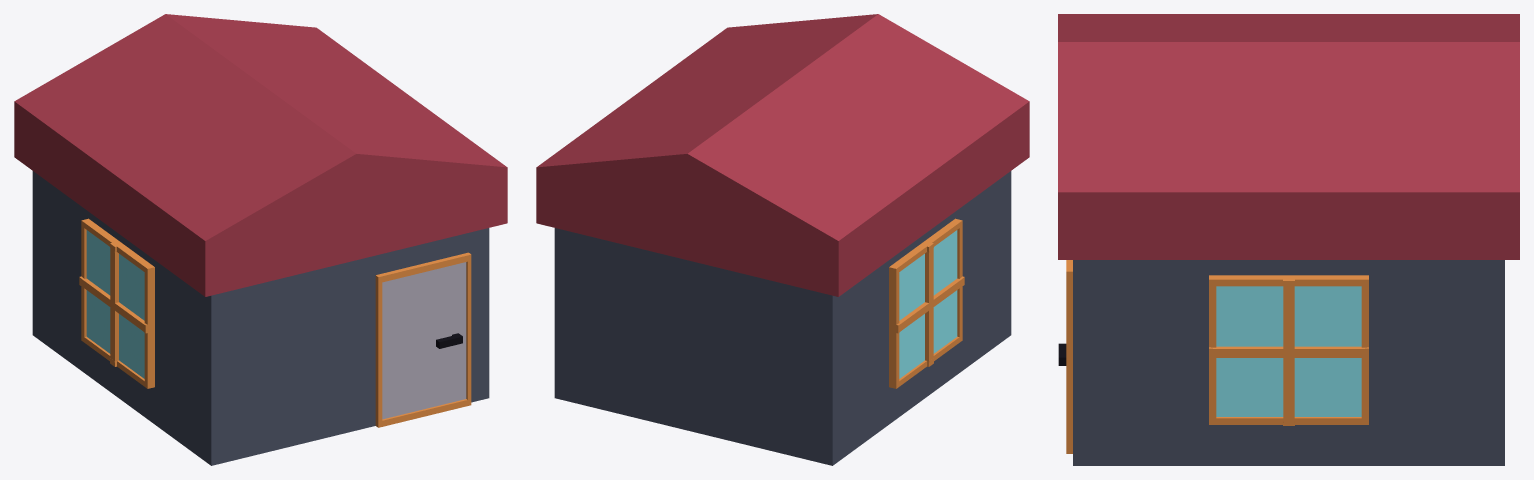
Rendered from House.fbx.
The picture shows the model from 3 angles, left to right: view 1: azimuth 30°, elevation 25°; view 2: azimuth 150°, elevation 25°; view 3: azimuth 270°, elevation 25°; orthographic projection. The views are drawn at different scales.
Visible parts, largest first — view 1: Cube.003, Cube.002, Cube.004, Cube.005; view 2: Cube.003, Cube.002, Cube.005; view 3: Cube.003, Cube.002, Cube.005, Cube.004.
Boxes of the visible parts, x1,y1,x2,y2 form: Cube.003: (14,14,507,296); Cube.002: (32,171,489,465); Cube.004: (375,252,471,427); Cube.005: (79,218,154,388); Cube.003: (536,14,1029,296); Cube.002: (554,171,1011,465); Cube.005: (889,218,964,388); Cube.003: (1058,14,1519,259); Cube.002: (1073,260,1504,465); Cube.005: (1209,275,1368,425); Cube.004: (1058,260,1072,453).
Bounding box in the file's own units: 649 × 581 × 711.
1 material, 1 textured.
